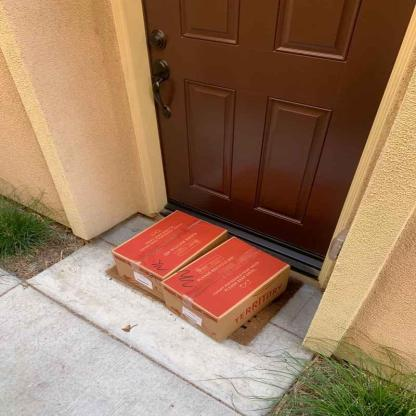package: (161, 235, 290, 345), (112, 209, 228, 302)
